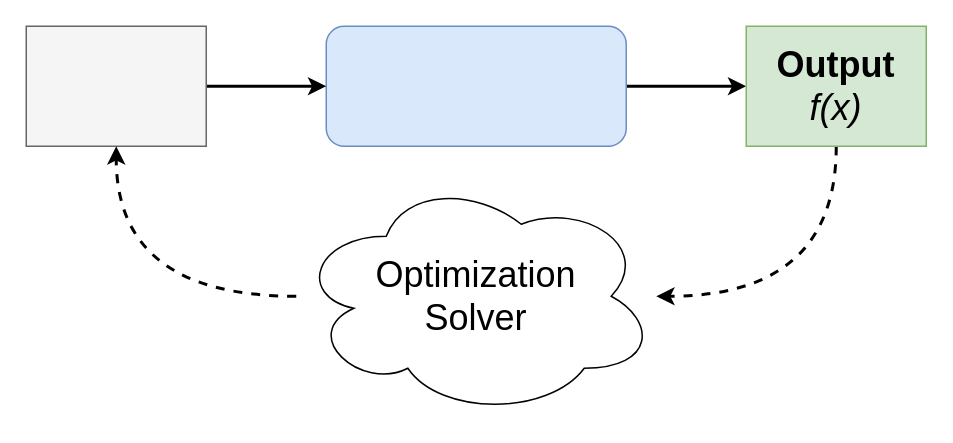
This 953x443 diagram has some shape labels left out. The centre of each missing label's shape, as x and y in pixels:
Input x: the point at 115,85
System f: the point at 475,85
